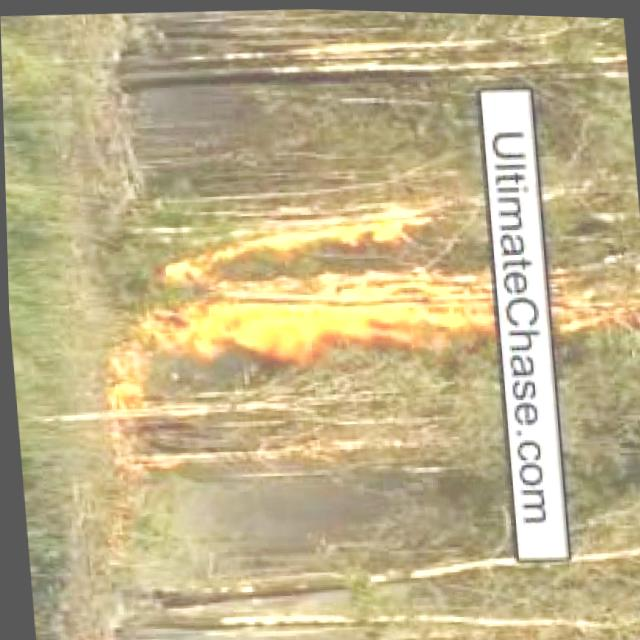helmet: (144, 178, 501, 381), (547, 274, 640, 337), (96, 350, 145, 410)
